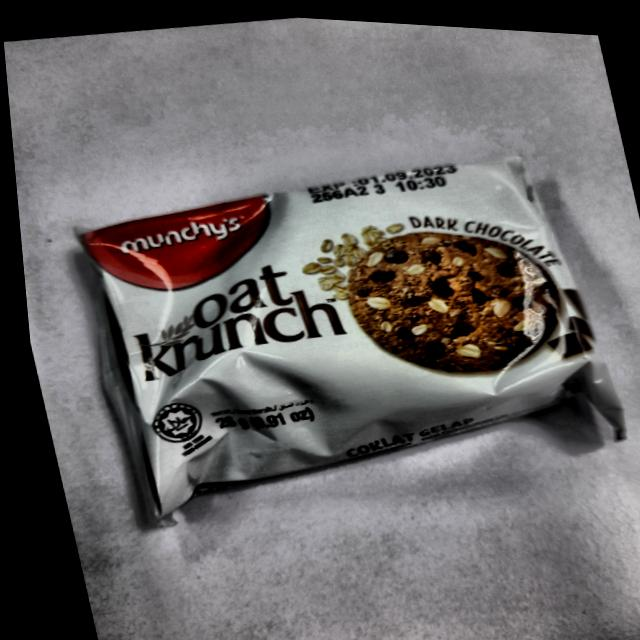Plastic: (64, 145, 638, 503)
